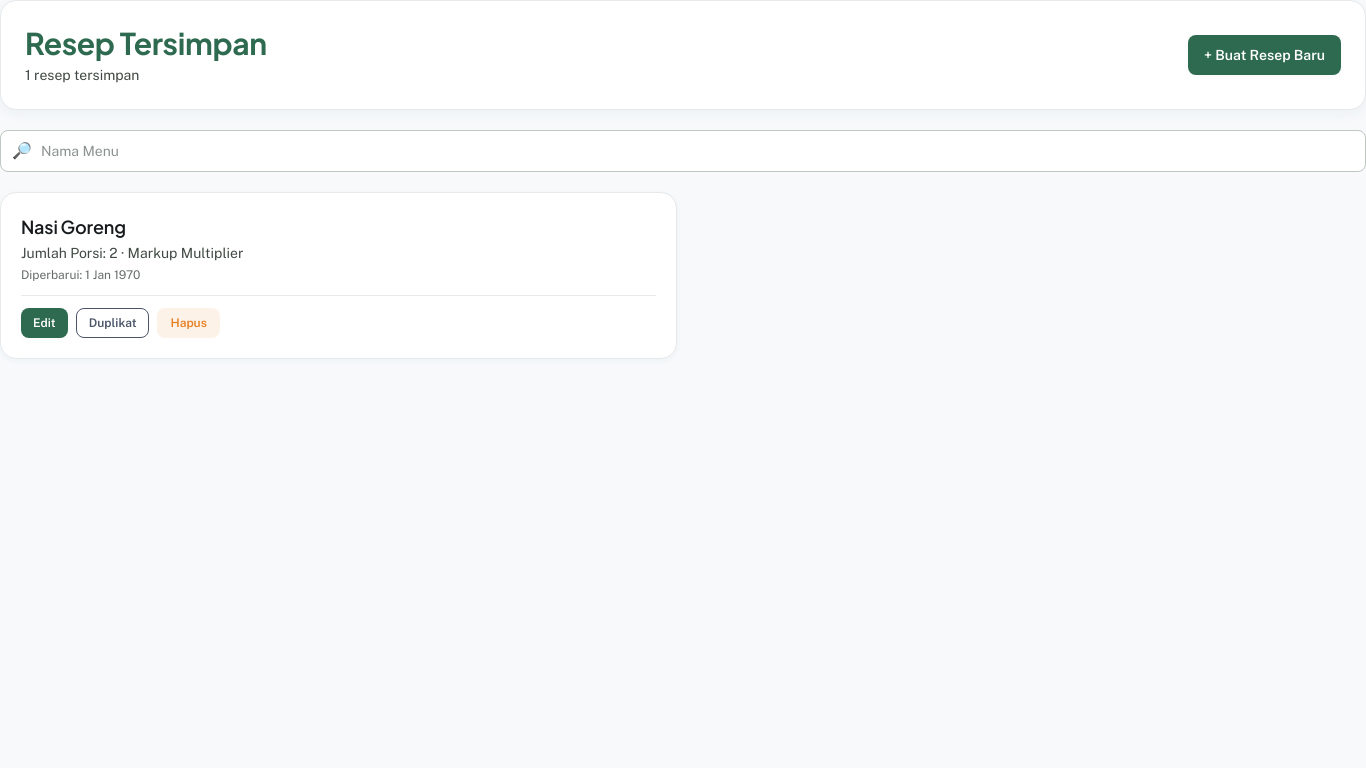
SavedRecipesPage › clicking delete shows confirmation dialog
Expected: the heading "Nasi Goreng" is shown, [21,215,126,238]
Click the button "Hapus" at (189, 323), box [158,308,220,338]
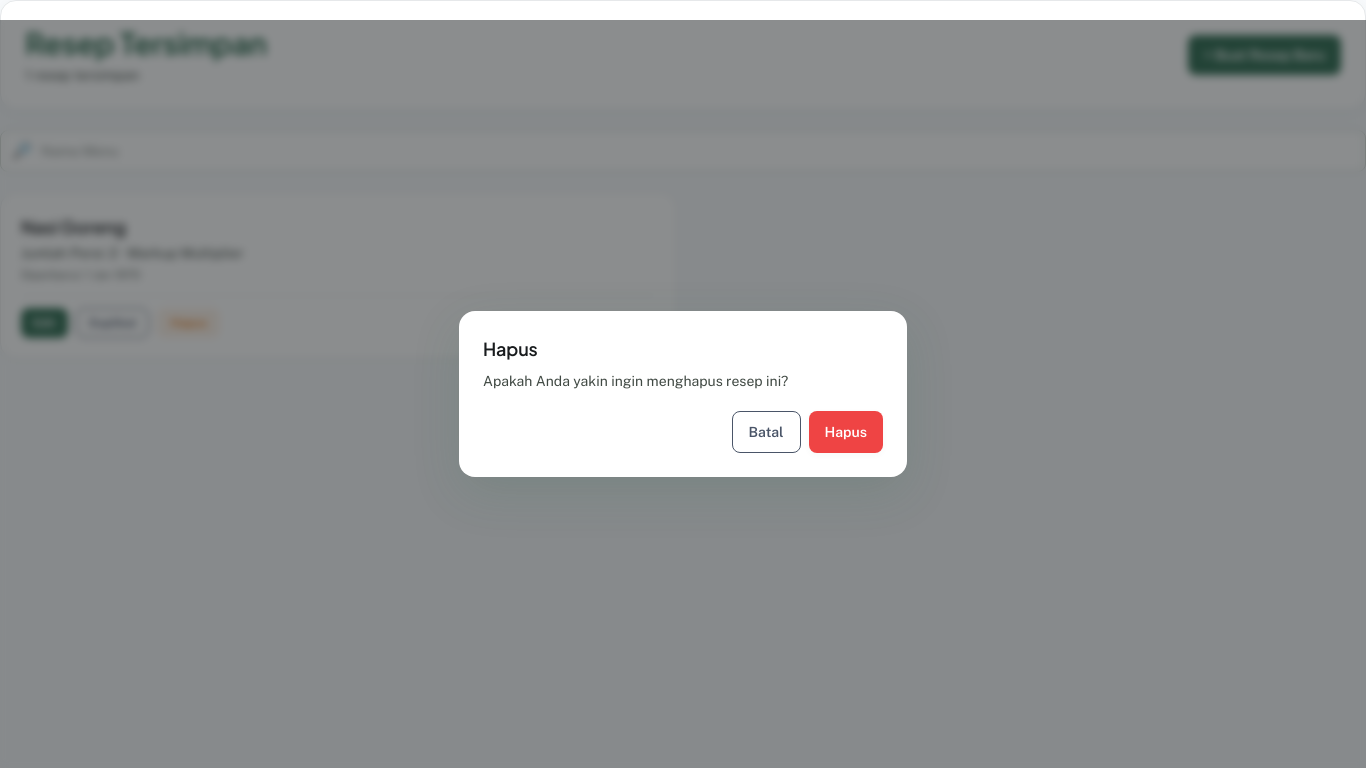
Result: the dialog is shown
